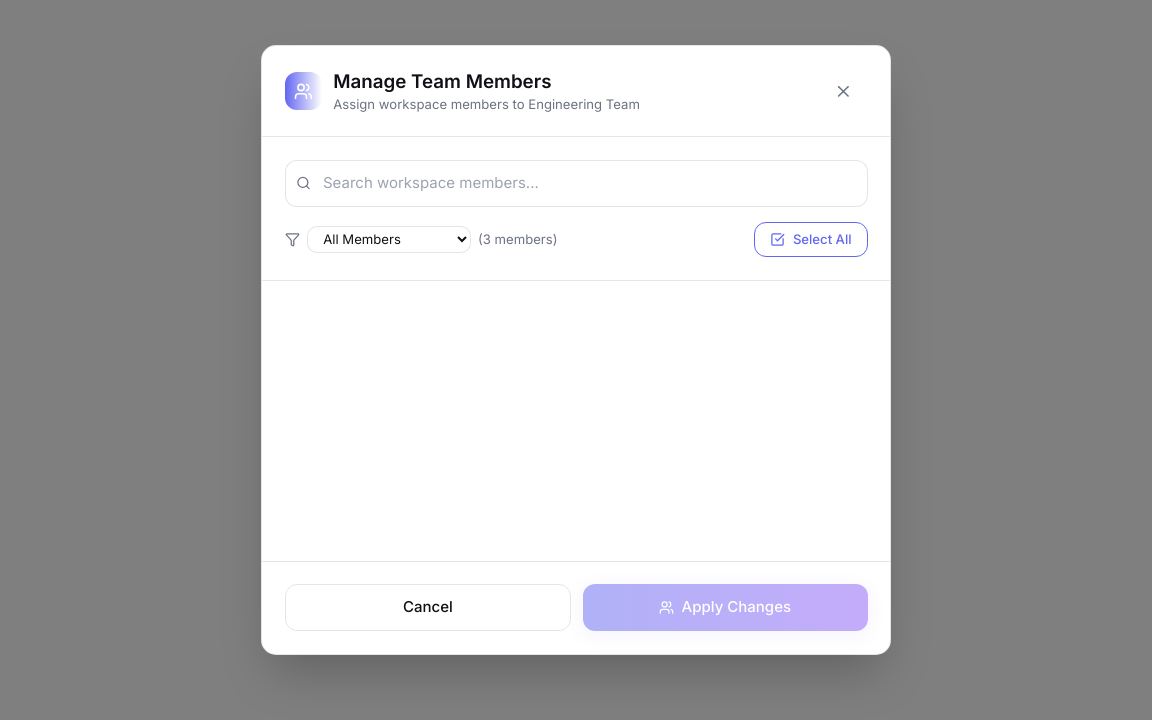
Test: TeamMemberAssignmentModal › handles select all functionality
Note: Click select all
What coordinates should you click on to do the following:
click the button "Select All"
I would click on:
 (811, 239)
Its box is [754,222,868,257].
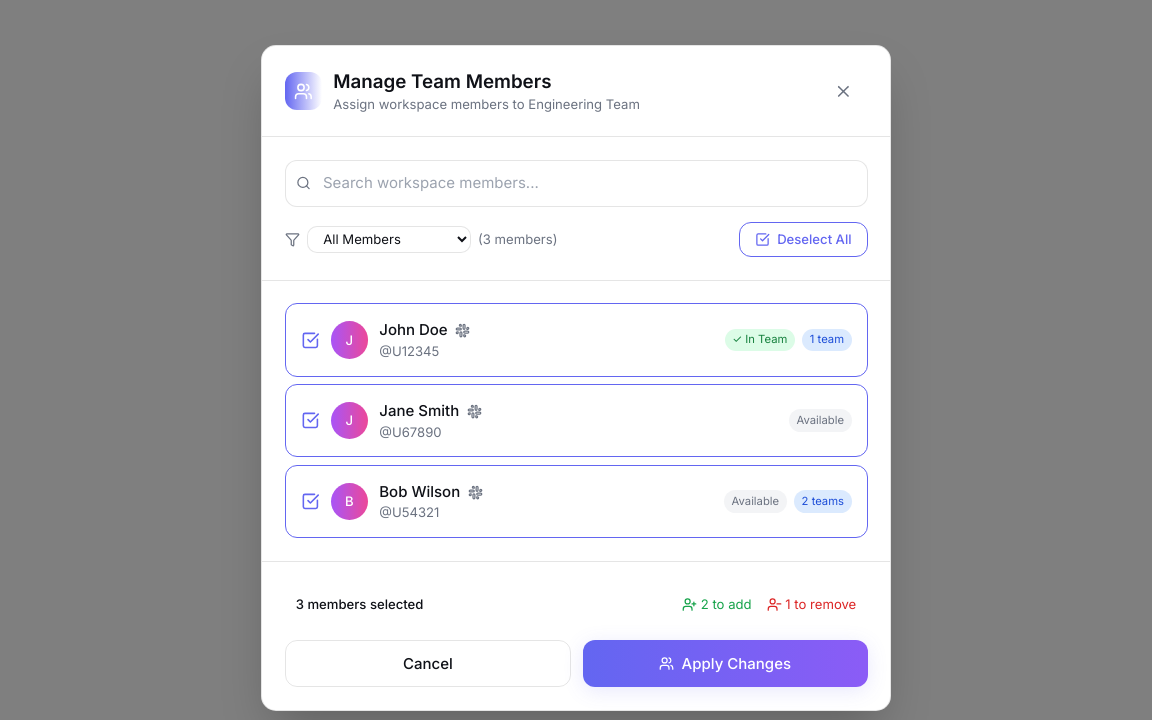
Expected: the text "3 members selected" is shown, [296,595,423,614]
Expected: the button "Deselect All" is shown
Note: Click deselect all
What coordinates should you click on to do the following:
click the button "Deselect All"
I would click on:
 (803, 239)
Its box is [739,222,868,257].
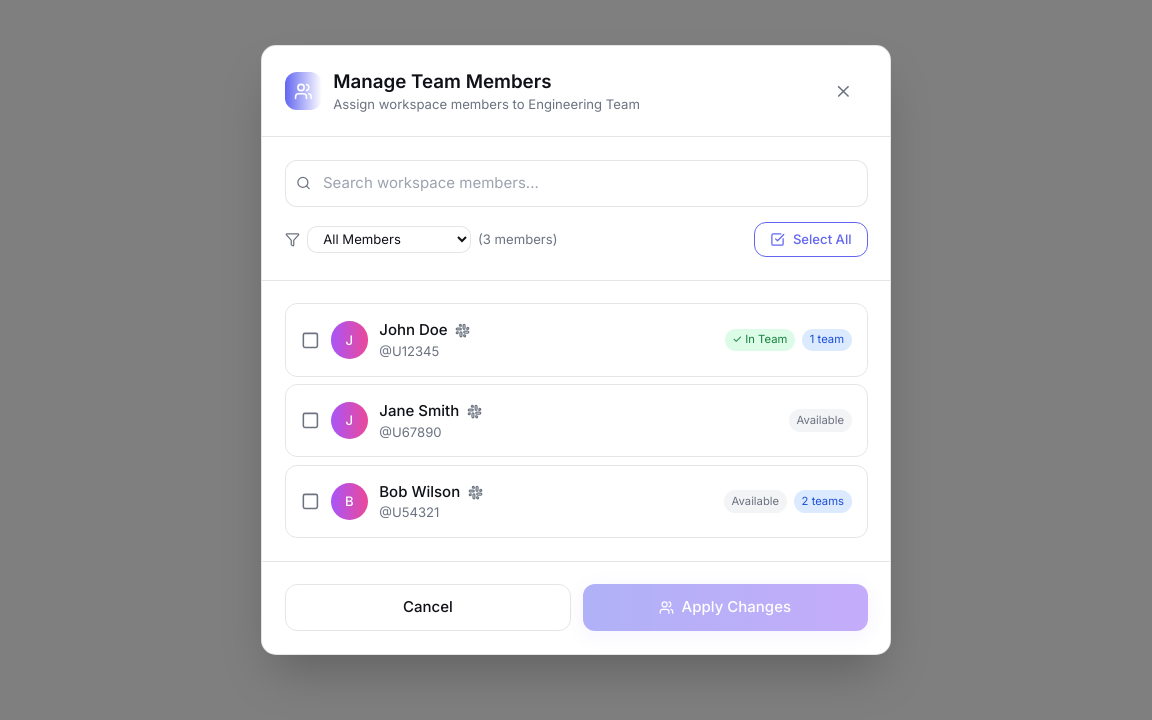
Expected: the button "Select All" is shown, [754,222,868,257]
Expected: the text "members selected" is gone
